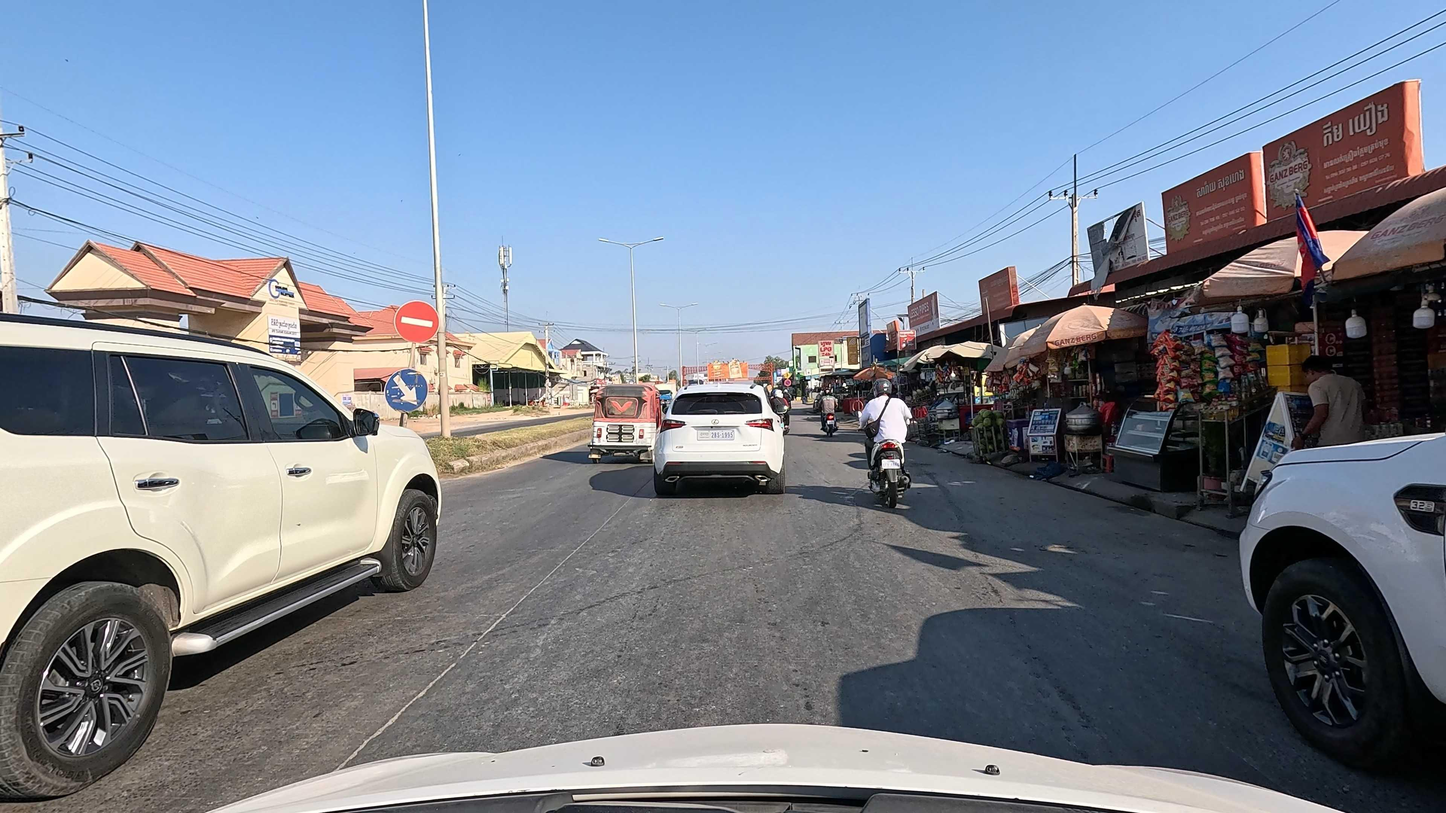keep_right: (383, 368, 429, 414)
no_entry: (393, 300, 440, 344)
